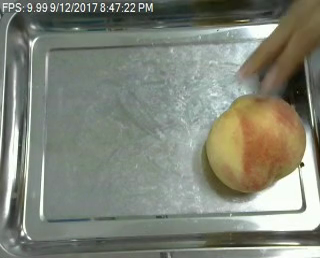Peach: (205, 95, 306, 193)
